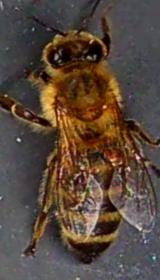varroa_mite: (101, 145, 125, 170)
